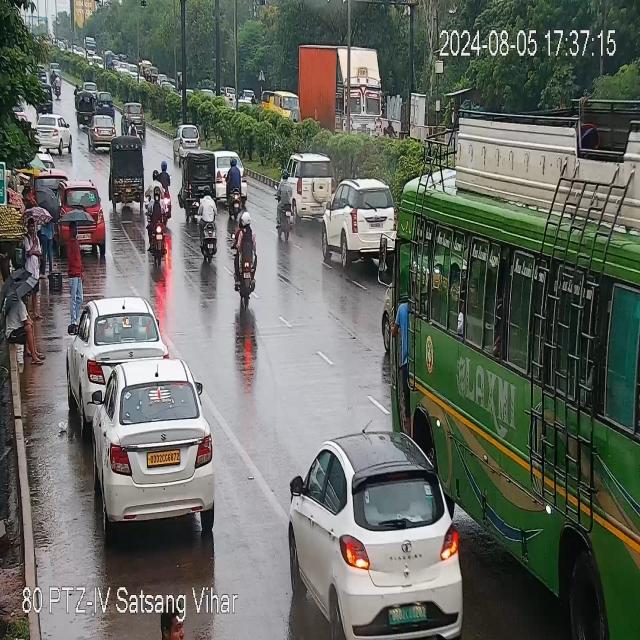2-wheelers: (238, 211, 265, 307), (143, 175, 170, 259), (195, 190, 221, 262), (220, 162, 251, 210), (275, 186, 300, 238), (122, 102, 148, 136), (161, 166, 172, 220)
auto: (110, 140, 153, 204), (180, 151, 224, 197)
bus: (391, 152, 640, 506), (262, 88, 304, 128)
car: (291, 452, 473, 640), (83, 355, 218, 527), (73, 298, 164, 404), (326, 180, 397, 265), (280, 156, 335, 218), (61, 184, 107, 250), (36, 114, 76, 152), (86, 116, 125, 152), (76, 92, 118, 120), (175, 124, 207, 149)
pedestrian: (4, 285, 47, 364), (23, 212, 42, 296), (38, 196, 56, 283), (67, 224, 85, 308)
truck: (296, 43, 390, 137)
